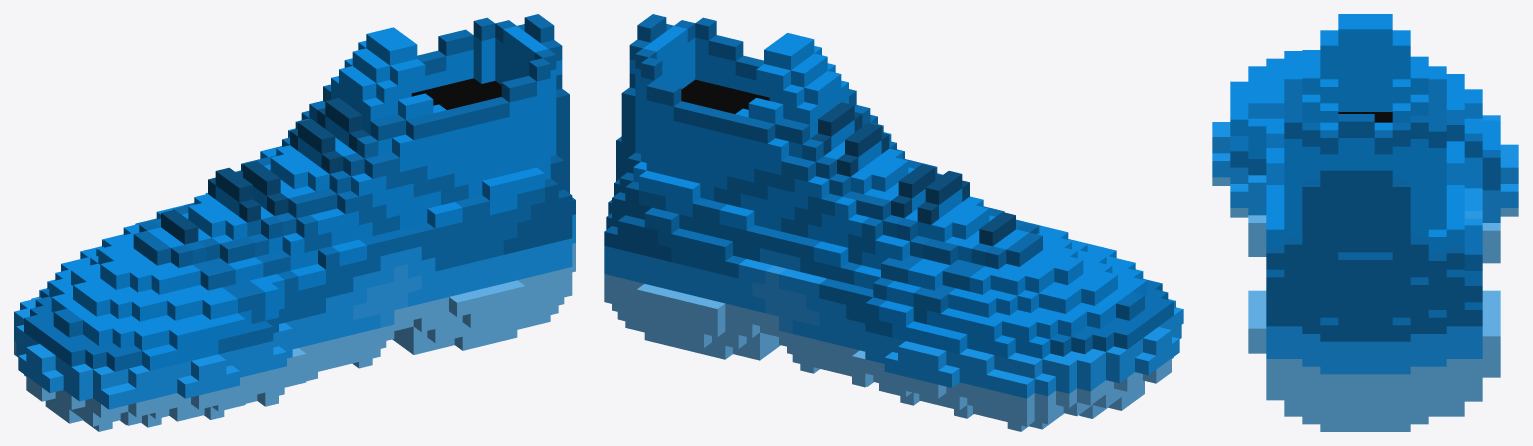
File: Frozen Ice.fbx
3 renders of one model, left to right at view 1: azimuth 30°, elevation 25°; view 2: azimuth 150°, elevation 25°; view 3: azimuth 270°, elevation 25°, orthographic. The views are drawn at different scales.
Visible parts, largest first — view 1: Untitled; view 2: Untitled; view 3: Untitled.
Boxes of the visible parts, x1=… form: Untitled: x1=14, y1=14, x2=575, y2=431; Untitled: x1=604, y1=14, x2=1183, y2=431; Untitled: x1=1212, y1=14, x2=1518, y2=431.
Bounding box in the file's own units: 390 × 200 × 170.
